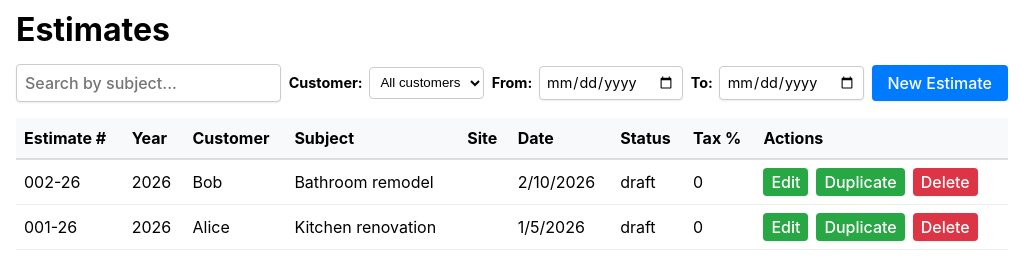
it: EstimatesListPage › filters by customer
Expected: the text "Kitchen renovation" is shown, [286,204,459,249]
Select "Bob" in the dropdown labelled "Customer:". click: (426, 83)
box: [369,67,484,99]
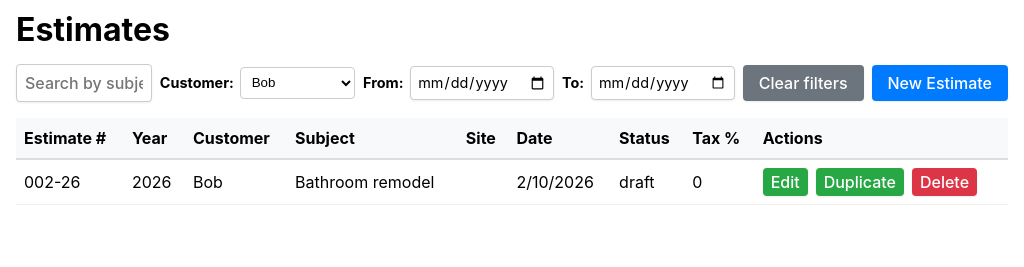
Expected: the text "Bathroom remodel" is shown, [287,159,458,204]
Now the text "Kitchen renovation" is gone
